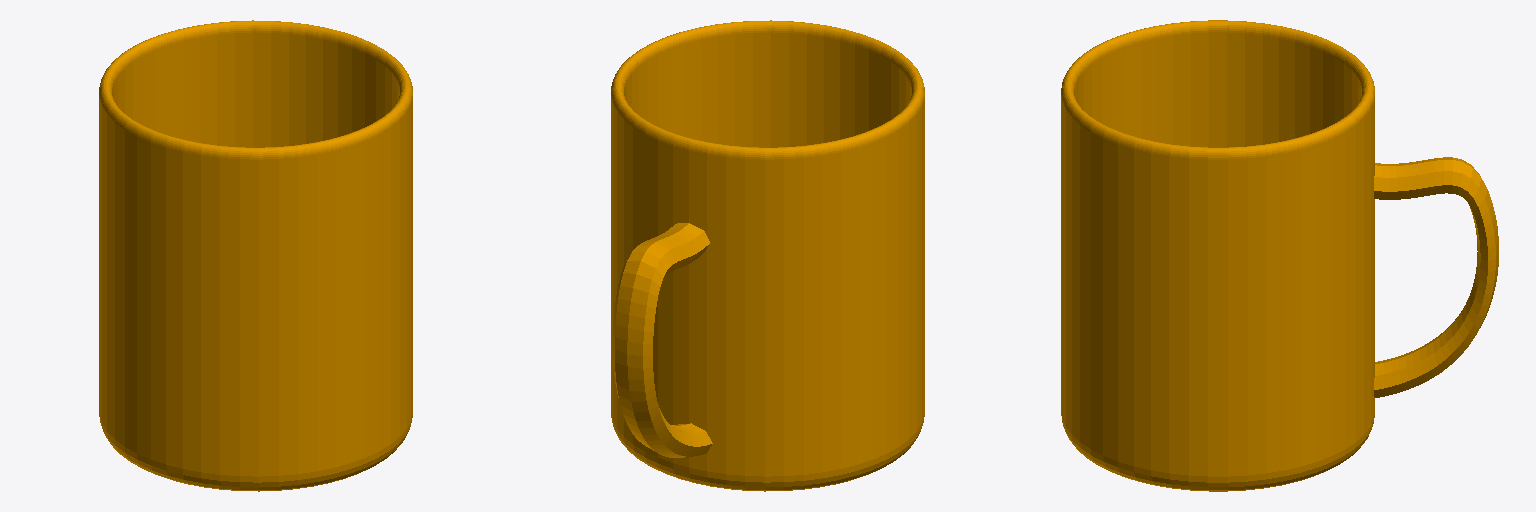
URDF robot description (mug):
<?xml version="1.0"?>
<robot name="mug">
  <link name="base_link">
    <inertial>
      <mass value="0.1" />
      <origin xyz="0 0 0" />
      <inertia  ixx="0.0002" ixy="0.0"  ixz="0.0"  iyy="0.0002"  iyz="0.0" izz="0.0002" />
    </inertial>
    <visual>
      <geometry>
        <mesh filename="assets/base.obj" />
      </geometry>
    </visual>
    <collision>
      <geometry>
        <mesh filename="assets/base.obj" />
      </geometry>
    </collision>
  </link>
</robot>

--- Render facts (derived) ---
The picture shows the robot from 3 angles, left to right: view 1: azimuth 30°, elevation 25°; view 2: azimuth 150°, elevation 25°; view 3: azimuth 270°, elevation 25°; orthographic projection.
Model mug with 1 links and 0 joints (none), rooted at base_link, posed every joint at zero.
Visible links, largest first — view 1: base_link; view 2: base_link; view 3: base_link.
Link boxes in pixels (x1,y1,x2,y2): base_link: (99,20,412,491); base_link: (611,20,924,491); base_link: (1061,20,1498,491).
Bounding box of the posed robot: 0.1245 × 0.1739 × 0.1515 m (x, y, z).
1 mesh visuals loaded from 1 distinct referenced files (1 OBJ).